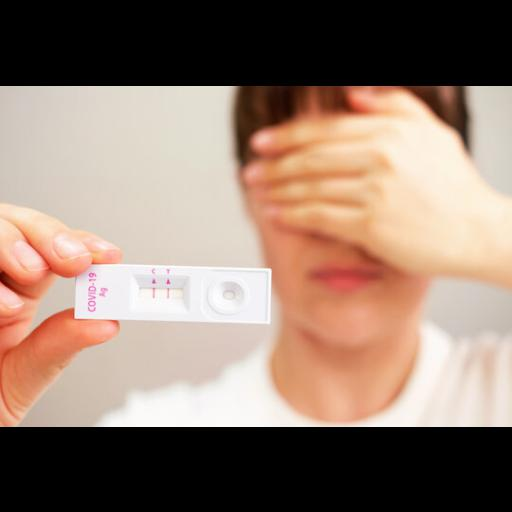Pos: (73, 262, 273, 325)
